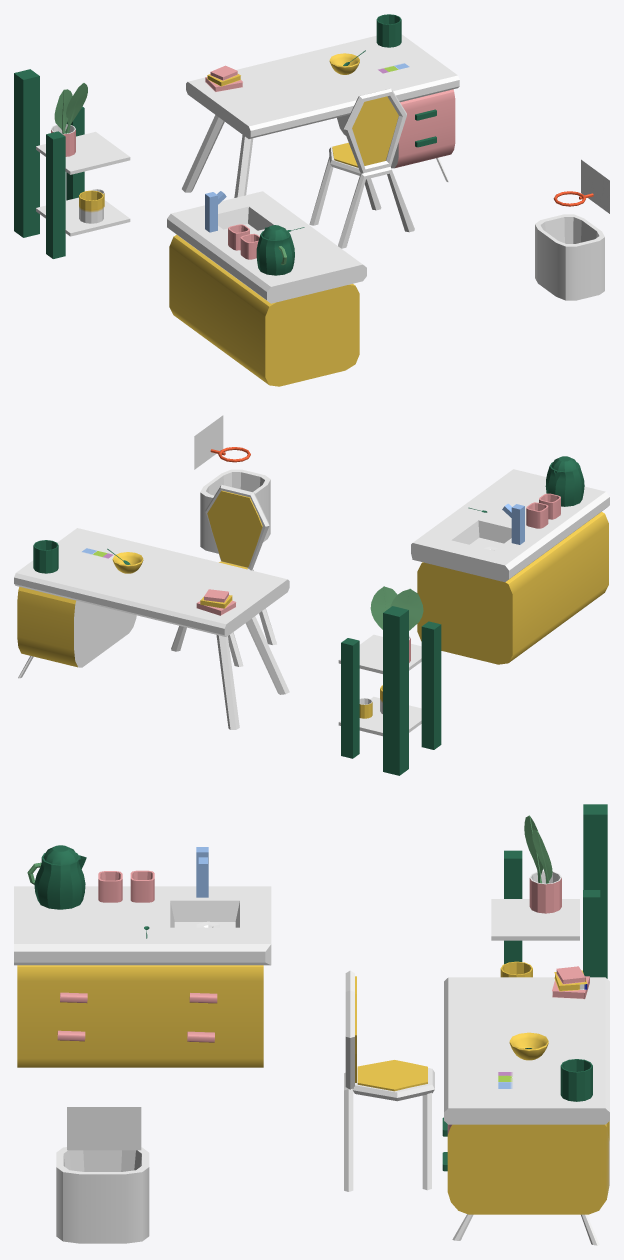
File: 3D_Environment.fbx
The picture shows the model from 3 angles, top to bottom: view 1: azimuth 30°, elevation 25°; view 2: azimuth 150°, elevation 25°; view 3: azimuth 270°, elevation 25°; orthographic projection. The views are drawn at different scales.
Parts seen in each view (by area): view 1: Desk, kitchen, stand, bench, chair2, tin1, leg, Kettle, backboard, cup1, cup, tap2 (+2 smaller); view 2: Desk, kitchen, stand, bench, chair2, tin1, leg, Kettle, backboard, cup1, plant, tap2 (+3 smaller); view 3: Desk, kitchen, bench, stand, tin1, chair2, backboard, Kettle, cup1, bowl, tin2, tin (+2 smaller).
Part boxes in pixels (<box>): Desk: <box>186,34,459,168</box>; kitchen: <box>169,234,359,386</box>; stand: <box>14,69,130,258</box>; bench: <box>167,191,366,303</box>; chair2: <box>309,88,414,248</box>; tin1: <box>535,214,604,300</box>; leg: <box>182,115,253,197</box>; Kettle: <box>256,225,294,275</box>; backboard: <box>581,159,609,213</box>; cup1: <box>376,14,401,47</box>; cup: <box>79,190,103,223</box>; tap2: <box>205,191,226,232</box>; Desk: <box>14,528,289,667</box>; kitchen: <box>417,511,608,664</box>; stand: <box>338,606,441,775</box>; bench: <box>411,469,609,582</box>; chair2: <box>171,484,276,666</box>; tin1: <box>200,469,270,553</box>; leg: <box>216,616,289,729</box>; Kettle: <box>545,456,584,506</box>; backboard: <box>194,415,223,469</box>; cup1: <box>33,540,58,573</box>; plant: <box>390,588,423,630</box>; tap2: <box>502,503,524,544</box>; Desk: <box>442,977,609,1214</box>; kitchen: <box>17,965,263,1067</box>; bench: <box>14,886,271,965</box>; stand: <box>491,804,607,978</box>; tin1: <box>56,1147,149,1243</box>; chair2: <box>344,970,434,1191</box>; backboard: <box>67,1107,141,1150</box>; Kettle: <box>27,845,86,909</box>; cup1: <box>560,1059,592,1101</box>; bowl: <box>509,1032,548,1060</box>; tin2: <box>130,870,154,902</box>; tin: <box>98,871,122,902</box>.
Bounding box in the file's own units: 23.61 × 9.27 × 24.53.
Materials: 4 (4 with a texture image).
